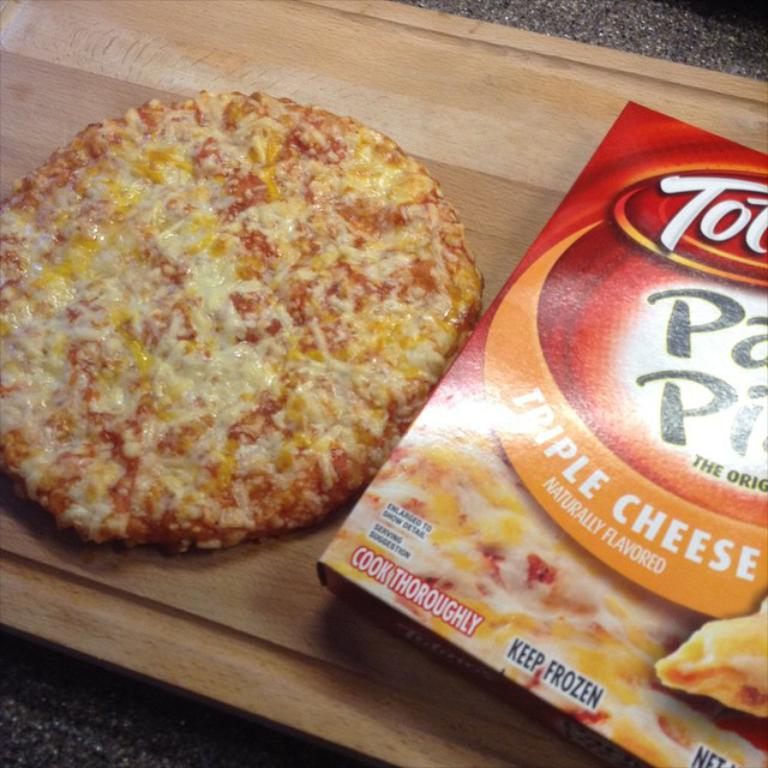Pizza: (0, 100, 501, 578)
